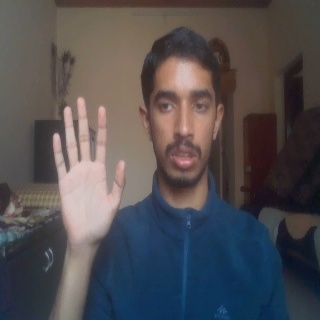Face: (138, 26, 226, 198)
Hello: (47, 95, 130, 247)
